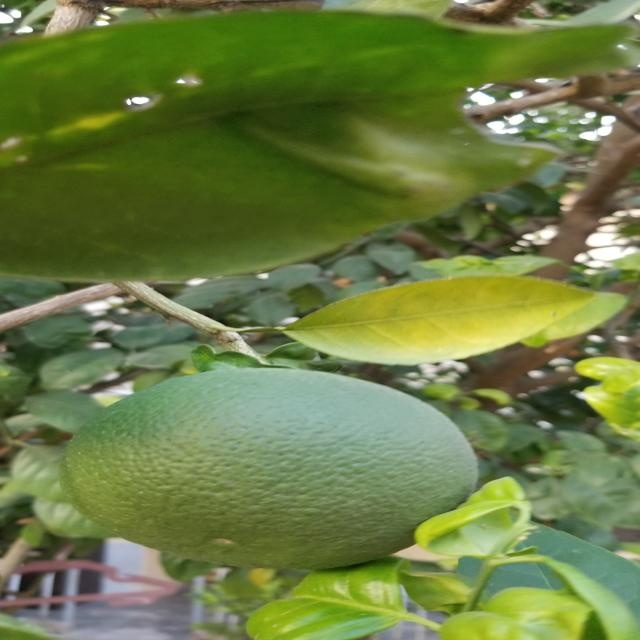agrume: (55, 368, 503, 572)
